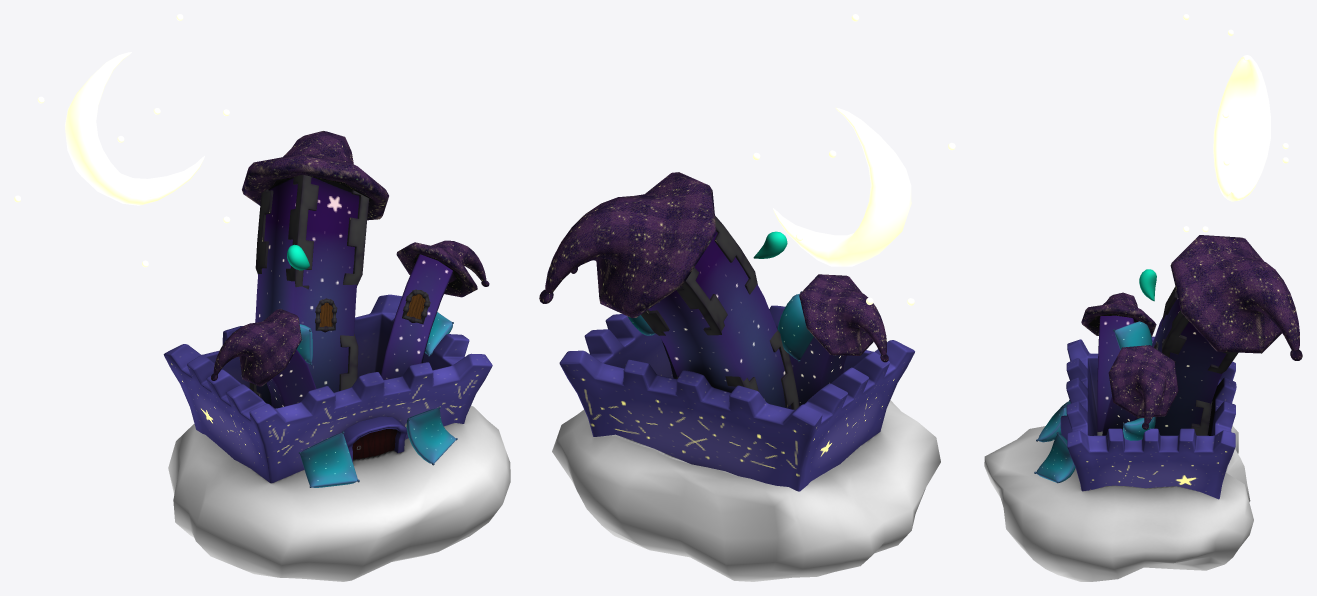
The model's file is Dreamz.fbx.
3 renders of one model, left to right at view 1: azimuth 30°, elevation 25°; view 2: azimuth 150°, elevation 25°; view 3: azimuth 270°, elevation 25°, orthographic. The views are drawn at different scales.
Visible parts, largest first — view 1: Object004; view 2: Object004; view 3: Object004.
Boxes of the visible parts, left/top/right/bottom form: Object004: left=14, top=14, right=510, bottom=581; Object004: left=539, top=14, right=955, bottom=581; Object004: left=984, top=14, right=1302, bottom=581.
Bounding box in the file's own units: 237 × 303 × 181.
